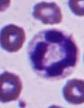N: (27, 26, 81, 80)
